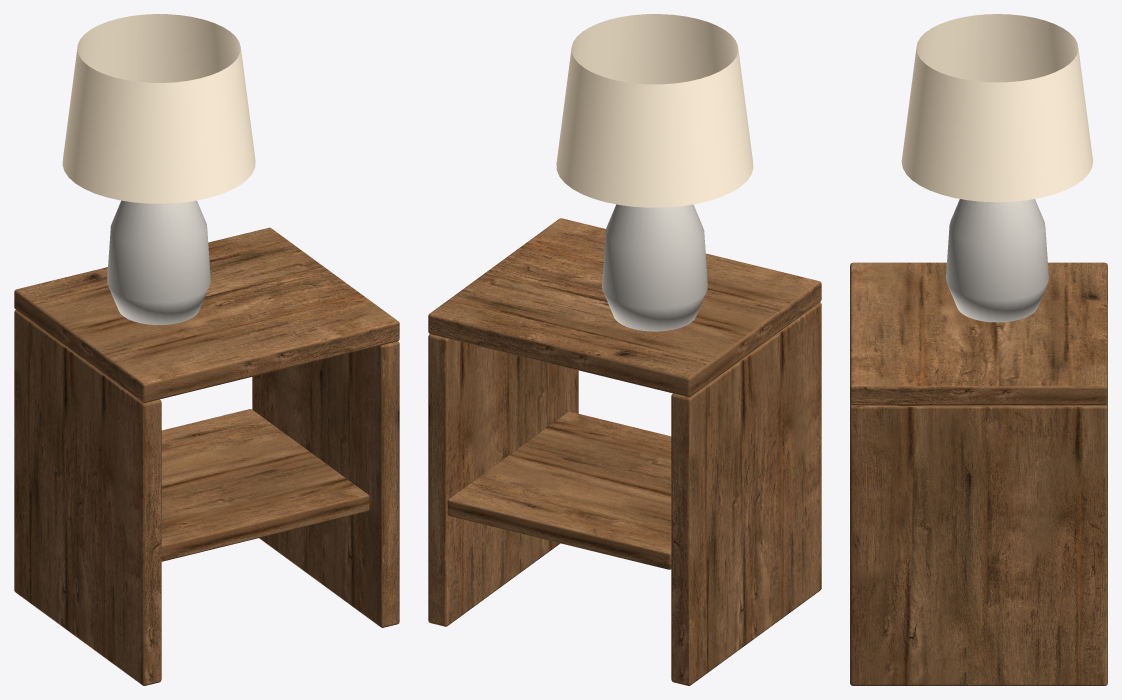
File: nightstand-lundby.glb
3 views of the same model, side by side, from view 1: azimuth 30°, elevation 25°; view 2: azimuth 150°, elevation 25°; view 3: azimuth 270°, elevation 25° (orthographic). The views are drawn at different scales.
Parts seen in each view (by area): view 1: object 1, decor (×2); view 2: object 1, decor (×2); view 3: object 1, decor (×2).
Boxes of the visible parts, <box> form: object 1: <box>14,227,399,685</box>; decor (×2): <box>62,14,255,324</box>; object 1: <box>428,218,821,685</box>; decor (×2): <box>556,14,753,331</box>; object 1: <box>850,262,1107,685</box>; decor (×2): <box>901,14,1093,322</box>.
Bounding box in the file's own units: 0.4 × 0.835 × 0.35.
3 materials, 1 textured.
